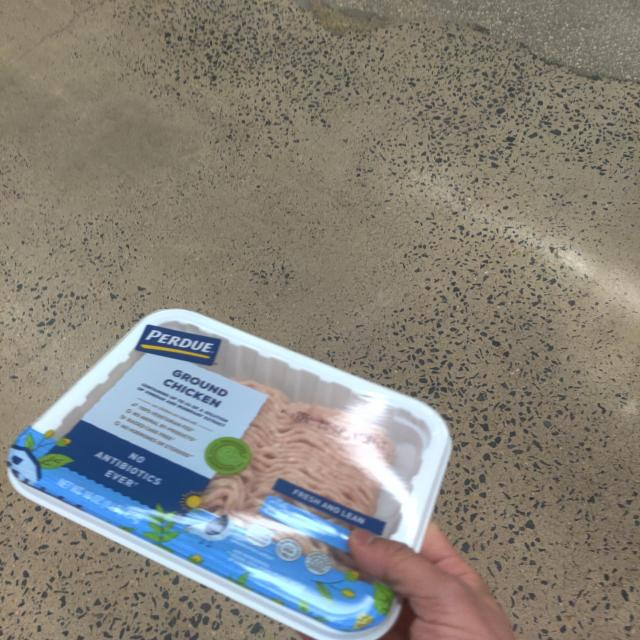Meat: (7, 305, 453, 640)
